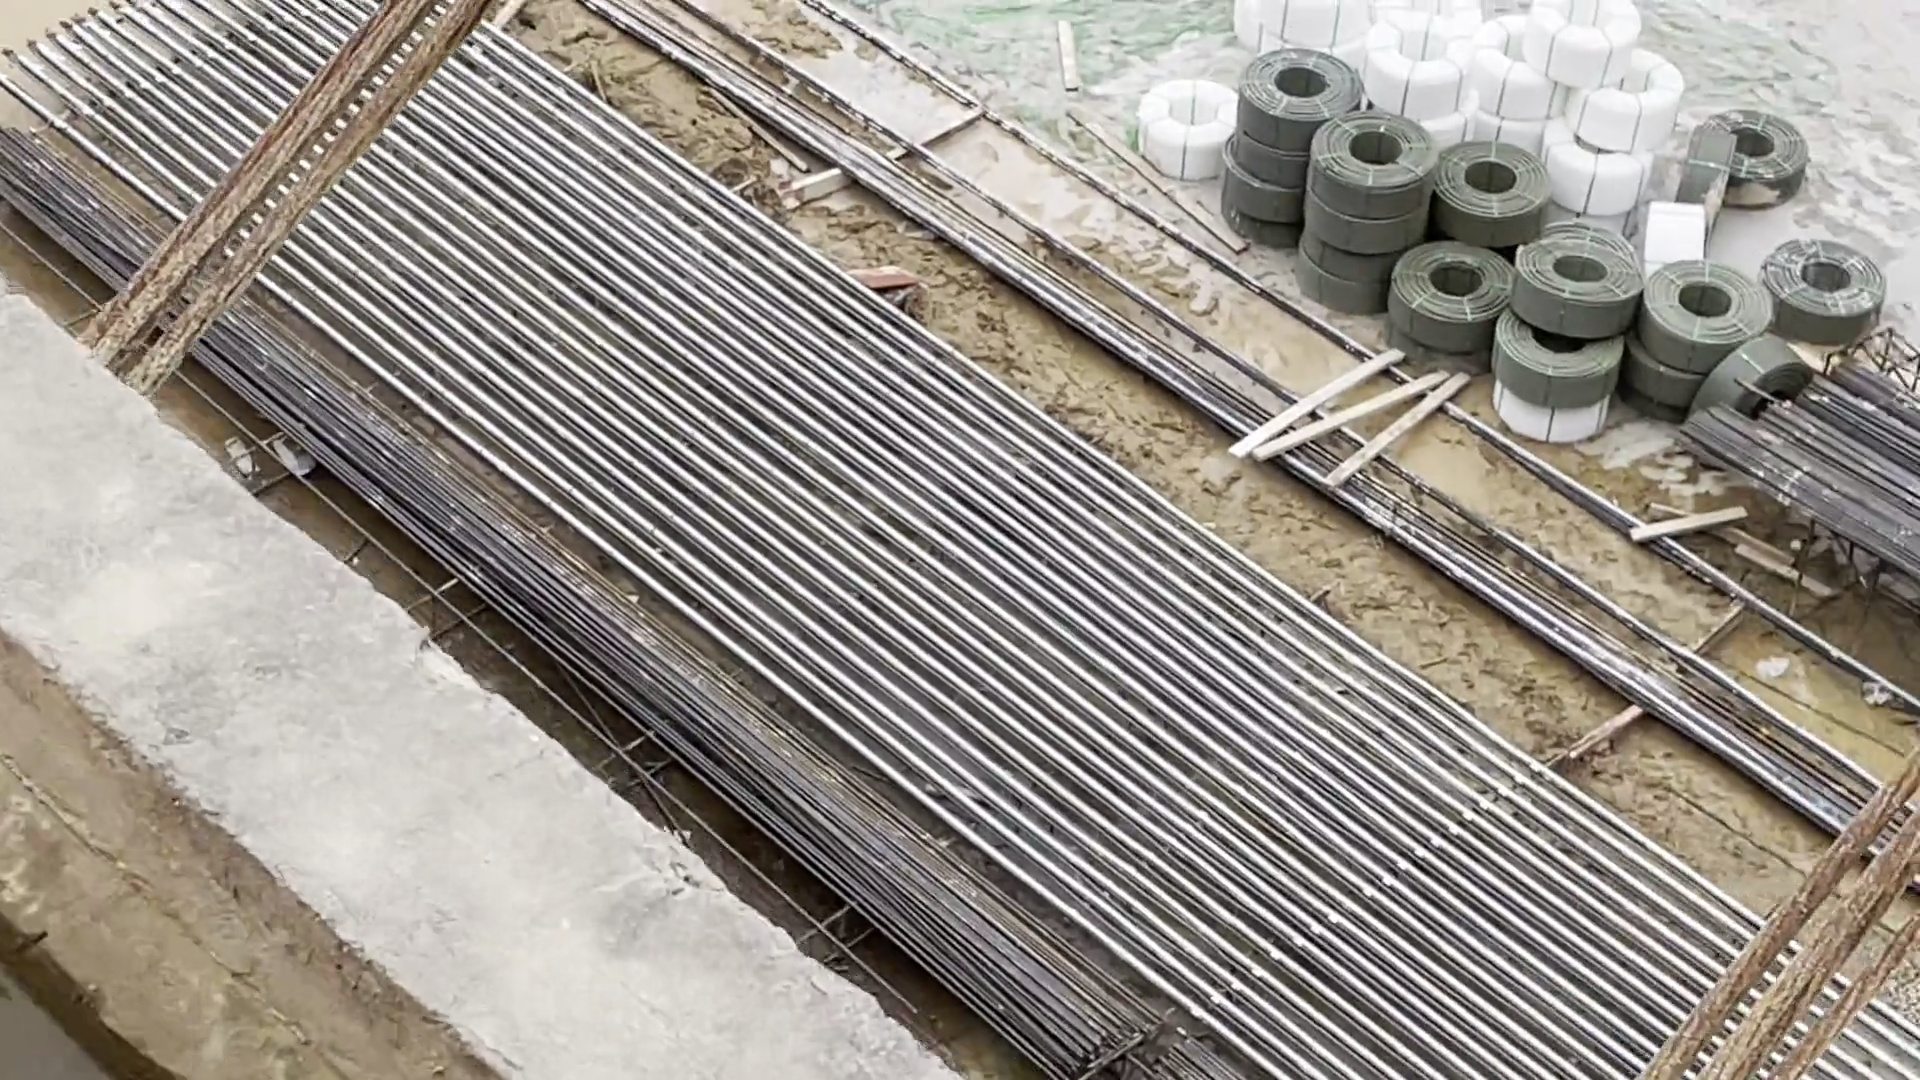rebar: (493, 535, 1160, 1051), (8, 113, 481, 547), (1726, 367, 1920, 530)
